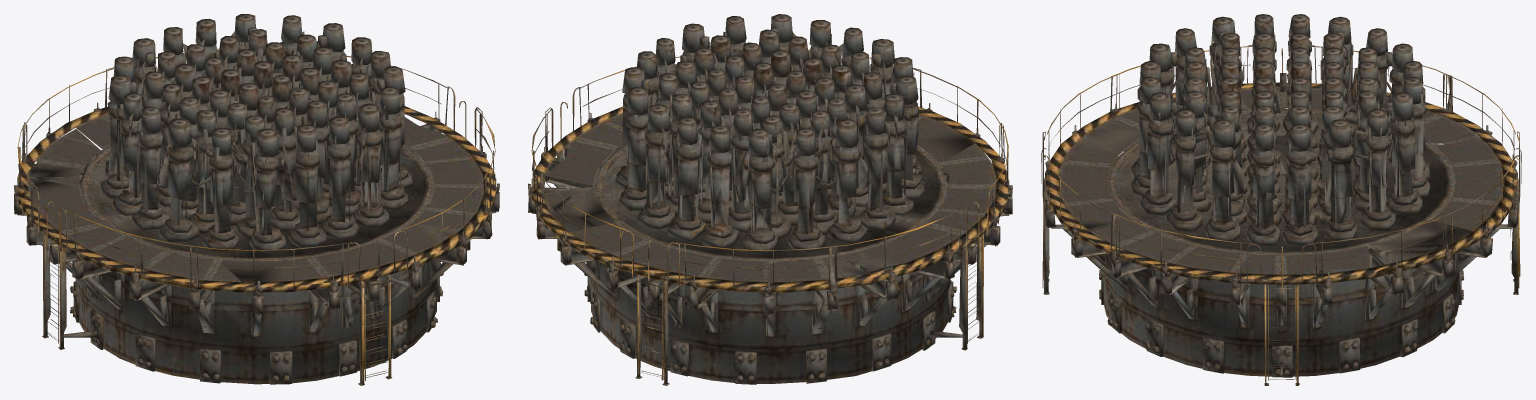
Rendered from reactor-crdm-platform.glb.
The picture shows the model from 3 angles, left to right: view 1: azimuth 30°, elevation 25°; view 2: azimuth 150°, elevation 25°; view 3: azimuth 270°, elevation 25°; orthographic projection.
Visible parts, largest first — view 1: reactor-crdm-platform; view 2: reactor-crdm-platform; view 3: reactor-crdm-platform.
Part boxes in pixels (box(x1,y1,x2,y2)): reactor-crdm-platform: box(14, 14, 499, 385); reactor-crdm-platform: box(528, 14, 1012, 385); reactor-crdm-platform: box(1041, 14, 1521, 385).
Bounding box in the file's own units: 6.6 × 3.52 × 6.65.
1 material, 1 textured.
